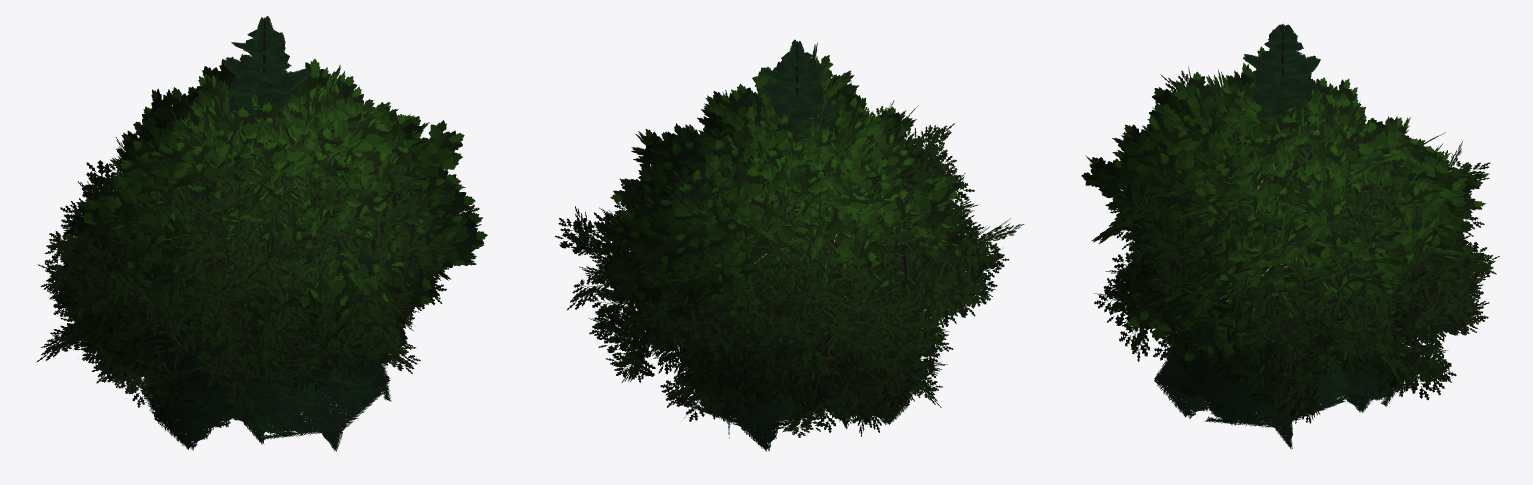
File: flora_trees15.glb
3 renders of one model, left to right at view 1: azimuth 30°, elevation 25°; view 2: azimuth 150°, elevation 25°; view 3: azimuth 270°, elevation 25°, orthographic. The views are drawn at different scales.
Parts seen in each view (by area): view 1: S_h_oak_b_LOD0, S_h_plane_b_LOD0, S_h_oak_LOD0, S_h_plane_LOD0, S_h_pine_LOD0, S_h_cypress_LOD0; view 2: S_h_plane_LOD0, S_h_oak_b_LOD0, S_h_oak_LOD0, S_h_plane_b_LOD0, S_h_pine_LOD0; view 3: S_h_plane_b_LOD0, S_h_oak_b_LOD0, S_h_plane_LOD0, S_h_pine_LOD0, S_h_oak_LOD0, S_h_cypress_LOD0.
Boxes of the visible parts, x1,y1,x2,y2 form: S_h_oak_b_LOD0: (36, 109, 481, 418); S_h_plane_b_LOD0: (76, 59, 487, 359); S_h_oak_LOD0: (45, 114, 462, 428); S_h_plane_LOD0: (109, 56, 430, 336); S_h_pine_LOD0: (139, 16, 391, 451); S_h_cypress_LOD0: (245, 68, 287, 108); S_h_plane_LOD0: (611, 84, 957, 366); S_h_oak_b_LOD0: (555, 100, 1024, 438); S_h_oak_LOD0: (642, 123, 1009, 437); S_h_plane_b_LOD0: (610, 43, 971, 357); S_h_pine_LOD0: (687, 39, 911, 451); S_h_plane_b_LOD0: (1081, 66, 1426, 388); S_h_oak_b_LOD0: (1093, 77, 1499, 423); S_h_plane_LOD0: (1149, 46, 1489, 352); S_h_pine_LOD0: (1154, 24, 1405, 449); S_h_oak_LOD0: (1104, 70, 1490, 385); S_h_cypress_LOD0: (1265, 68, 1300, 120).
Size of what is drawn, in the model's own units: 23.14 by 18.82 by 19.61.
Materials: 4 (4 with a texture image).
